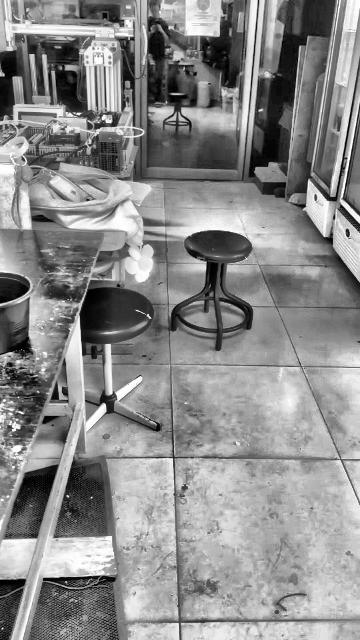pot: (0, 272, 31, 354)
